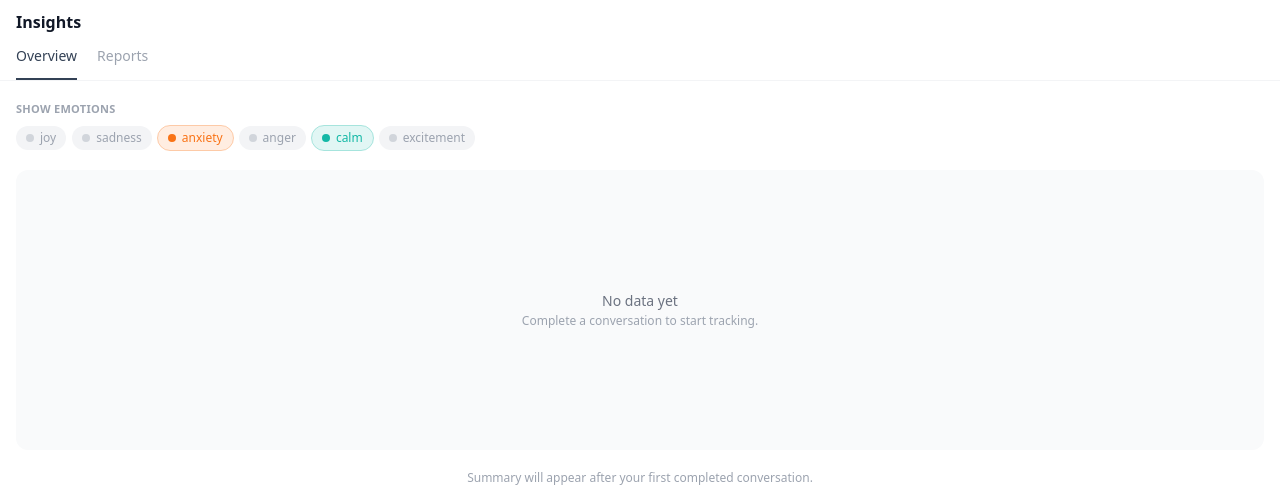
Scenario: InsightsScreen — Reports tab empty state › shows a loading skeleton while fetching reports
Click the tab "Reports" at (123, 63), box 97,46 -> 148,80
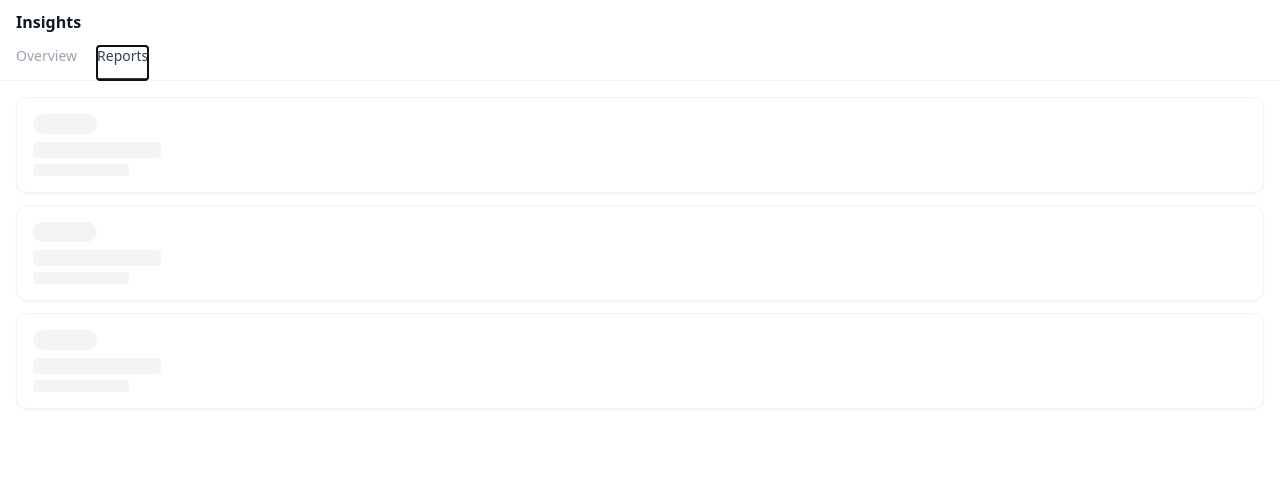
Expected: the message named "loading reports" is shown
